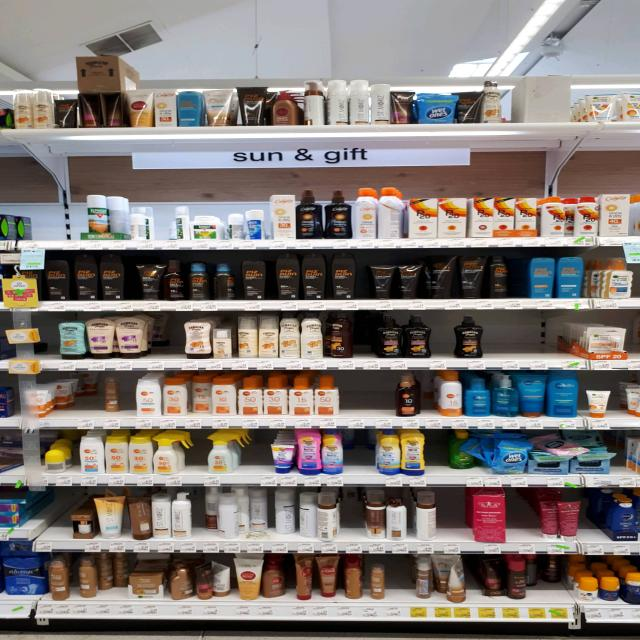void: (37, 190, 80, 248), (533, 311, 572, 369), (350, 374, 390, 428), (132, 201, 172, 250), (494, 313, 525, 372), (66, 373, 96, 428), (152, 316, 181, 370), (350, 429, 375, 485), (242, 432, 267, 486), (446, 489, 466, 552), (42, 505, 68, 552), (428, 431, 449, 487), (586, 501, 609, 552), (18, 439, 42, 487), (616, 436, 637, 488), (514, 498, 534, 552)
